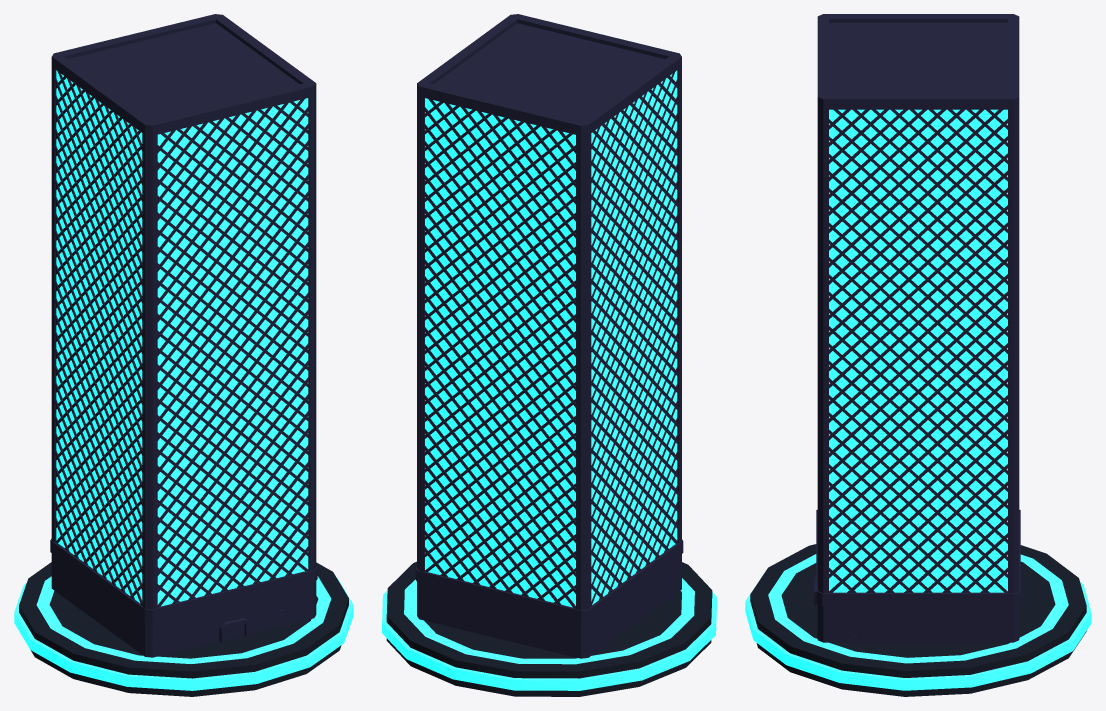
Rendered from House2.fbx.
The picture shows the model from 3 angles, left to right: view 1: azimuth 30°, elevation 25°; view 2: azimuth 150°, elevation 25°; view 3: azimuth 270°, elevation 25°; orthographic projection. The views are drawn at different scales.
Parts seen in each view (by area): view 1: House2; view 2: House2; view 3: House2.
Boxes of the visible parts, x1,y1,x2,y2 form: House2: (14, 14, 353, 696); House2: (382, 14, 716, 696); House2: (745, 14, 1091, 696).
Bounding box in the file's own units: 3429 × 6370 × 3429.
